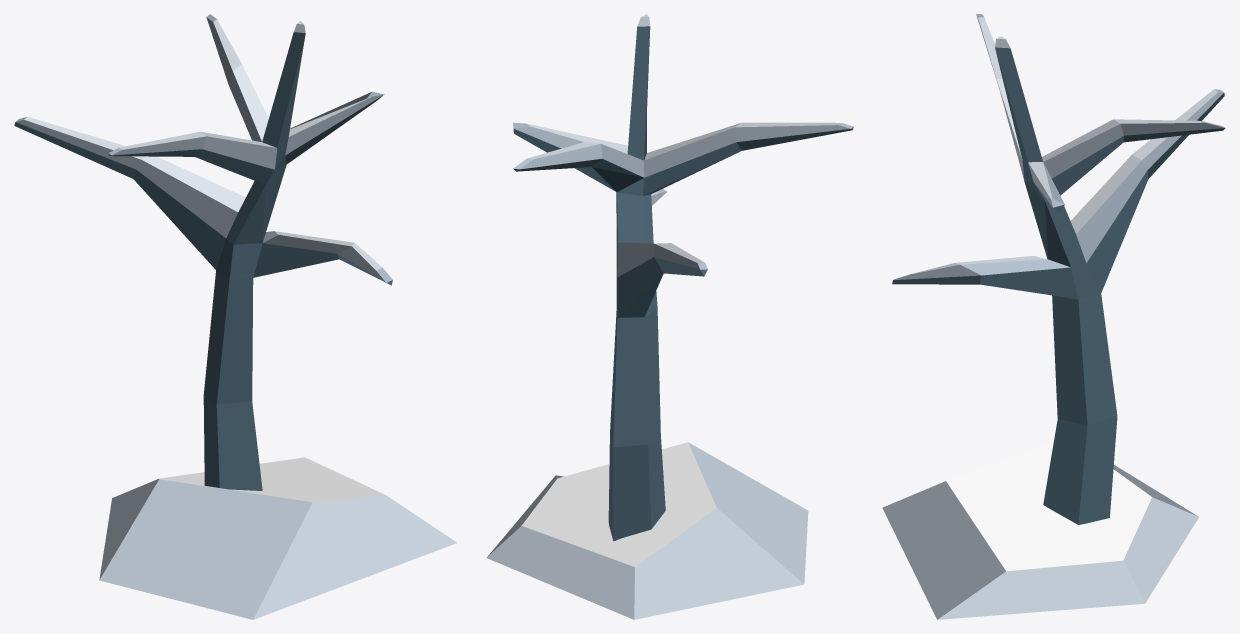
File: TreeWinter7_Alt3.fbx
The picture shows the model from 3 angles, left to right: view 1: azimuth 30°, elevation 25°; view 2: azimuth 150°, elevation 25°; view 3: azimuth 270°, elevation 25°; orthographic projection. The views are drawn at different scales.
Parts seen in each view (by area): view 1: TreeWinter7_Alt3; view 2: TreeWinter7_Alt3; view 3: TreeWinter7_Alt3.
Boxes of the visible parts, bbox=[...] form: TreeWinter7_Alt3: bbox=[14, 14, 456, 619]; TreeWinter7_Alt3: bbox=[486, 14, 853, 619]; TreeWinter7_Alt3: bbox=[882, 14, 1225, 619].
Bounding box in the file's own units: 1.35 × 2.07 × 1.24.
